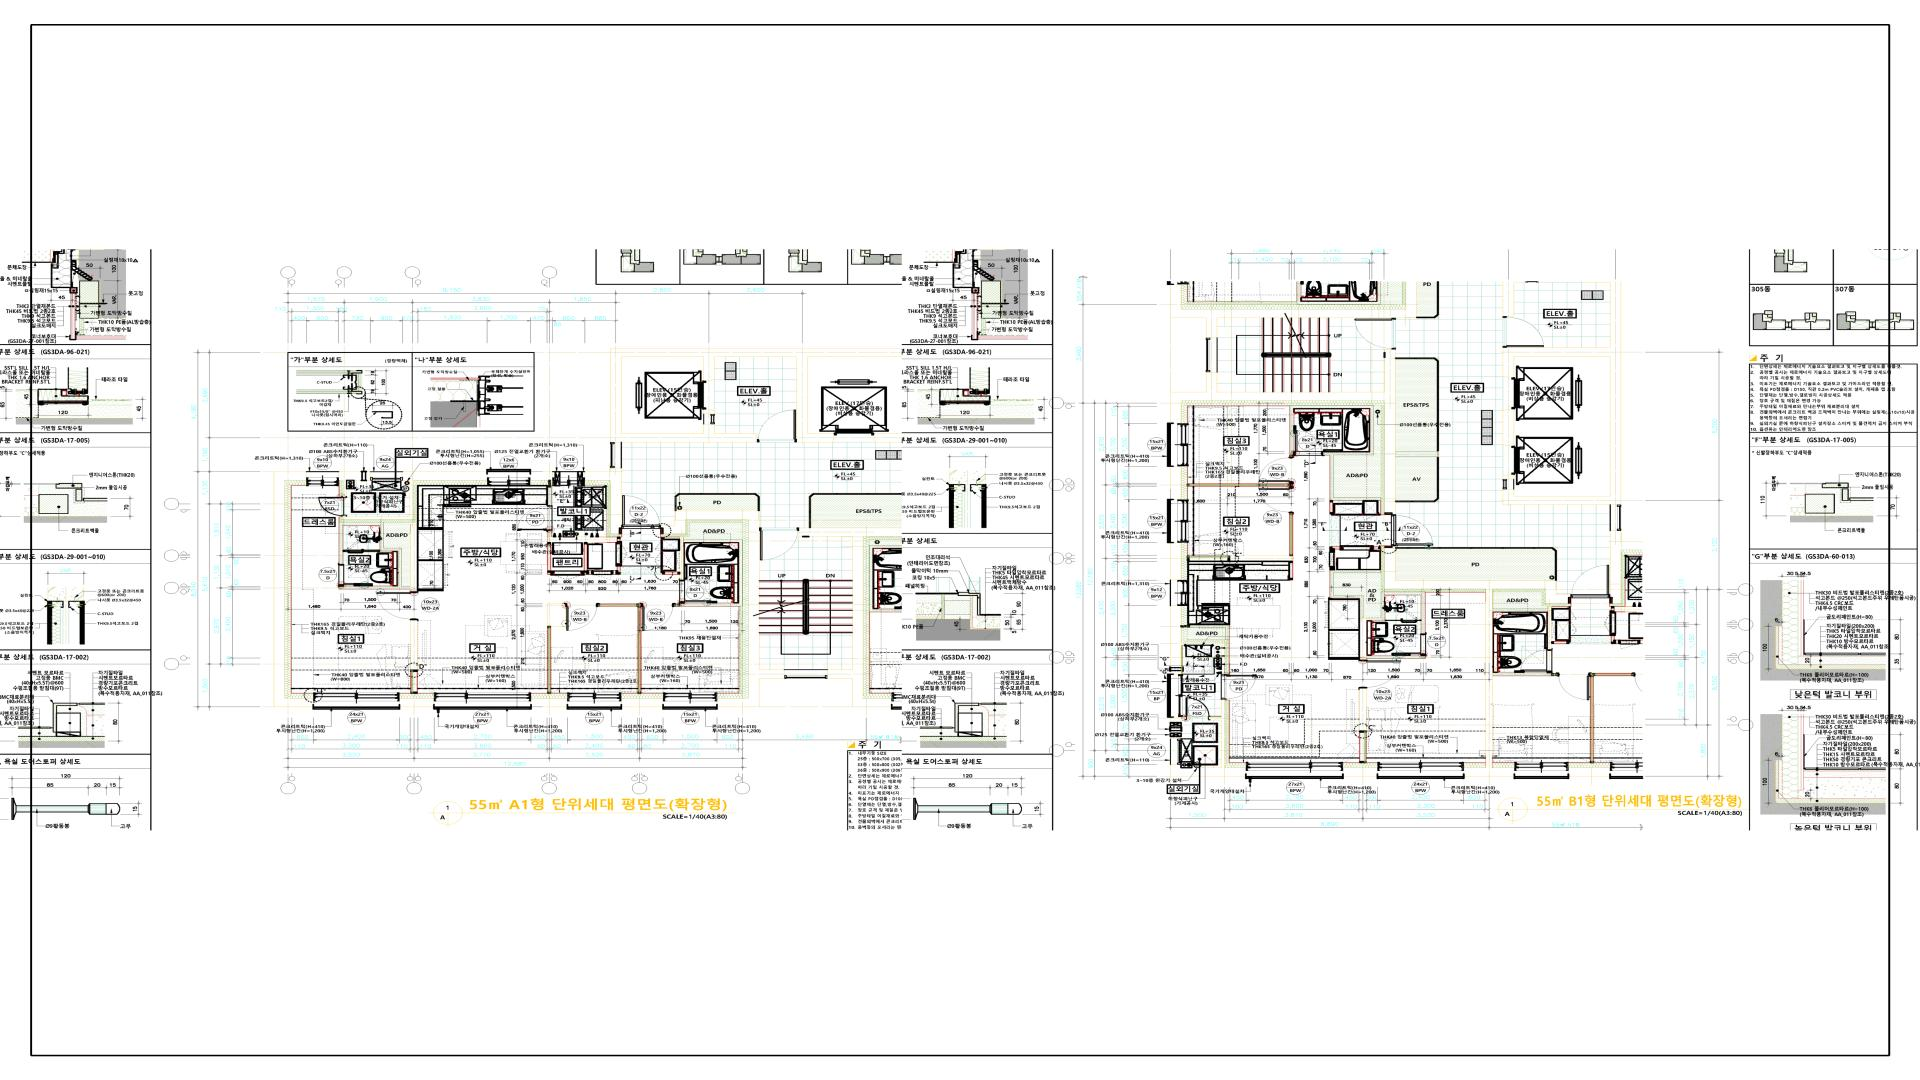door: (619, 495, 664, 534), (1391, 514, 1433, 547), (759, 527, 799, 561), (757, 409, 797, 443), (376, 591, 418, 621), (1358, 660, 1401, 689), (641, 603, 676, 631), (1259, 457, 1294, 484), (1259, 486, 1294, 513), (517, 505, 553, 531), (1221, 674, 1257, 700), (564, 603, 597, 631), (1293, 430, 1325, 456), (679, 580, 712, 604), (338, 564, 369, 586), (1396, 634, 1427, 656), (1184, 697, 1210, 720), (318, 496, 347, 516), (343, 537, 368, 552), (615, 542, 627, 567), (551, 571, 584, 580), (591, 570, 613, 580), (1323, 552, 1335, 570)
wall: (1170, 349, 1396, 514), (1385, 548, 1513, 776), (610, 348, 902, 442), (1503, 282, 1621, 505), (661, 511, 784, 707), (1170, 281, 1417, 338), (799, 528, 867, 707), (274, 472, 313, 707), (1290, 406, 1381, 500), (343, 472, 486, 520), (1170, 700, 1245, 776), (1190, 513, 1293, 561), (339, 523, 411, 589), (681, 540, 742, 606), (598, 603, 641, 694), (1170, 606, 1225, 674), (1330, 570, 1381, 618), (1366, 592, 1425, 633), (585, 468, 621, 534), (410, 620, 418, 694), (1187, 625, 1229, 639), (410, 524, 417, 591), (1170, 543, 1181, 580), (1503, 409, 1514, 446), (1503, 282, 1514, 316), (622, 698, 663, 707), (1170, 467, 1181, 499), (547, 537, 617, 542), (1359, 689, 1367, 730), (1187, 484, 1290, 487), (400, 698, 434, 707), (531, 699, 567, 707), (1360, 618, 1367, 657), (547, 626, 551, 694), (1344, 768, 1377, 776), (1395, 451, 1438, 457), (339, 472, 370, 480), (873, 434, 902, 442), (584, 542, 591, 575), (1366, 656, 1425, 659), (680, 537, 684, 580), (531, 472, 552, 480), (1359, 733, 1364, 763), (547, 542, 551, 575), (1329, 546, 1340, 552), (613, 567, 621, 575), (1290, 561, 1293, 580), (548, 488, 551, 505), (665, 572, 681, 575), (1330, 500, 1333, 514), (547, 531, 552, 537), (1374, 546, 1381, 550), (368, 550, 380, 552), (617, 537, 621, 541)
window: (434, 692, 531, 710), (1245, 762, 1344, 779), (313, 692, 400, 710), (1377, 762, 1465, 779), (663, 692, 718, 710), (567, 692, 622, 710), (1167, 499, 1189, 543), (1167, 423, 1189, 467), (486, 469, 531, 487), (1167, 674, 1183, 718), (552, 471, 585, 487), (306, 471, 339, 486), (1170, 580, 1187, 606), (784, 669, 828, 679), (1206, 338, 1218, 372), (370, 471, 403, 481), (610, 442, 622, 468), (703, 414, 715, 424)
